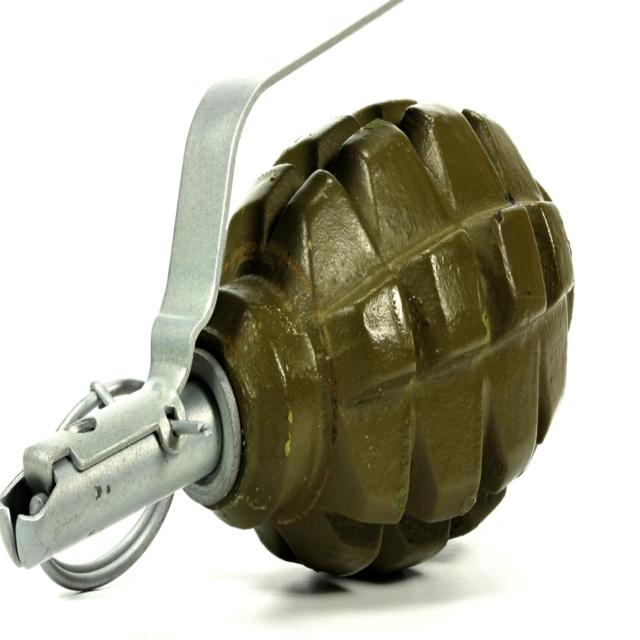grenade: (1, 1, 575, 601)
